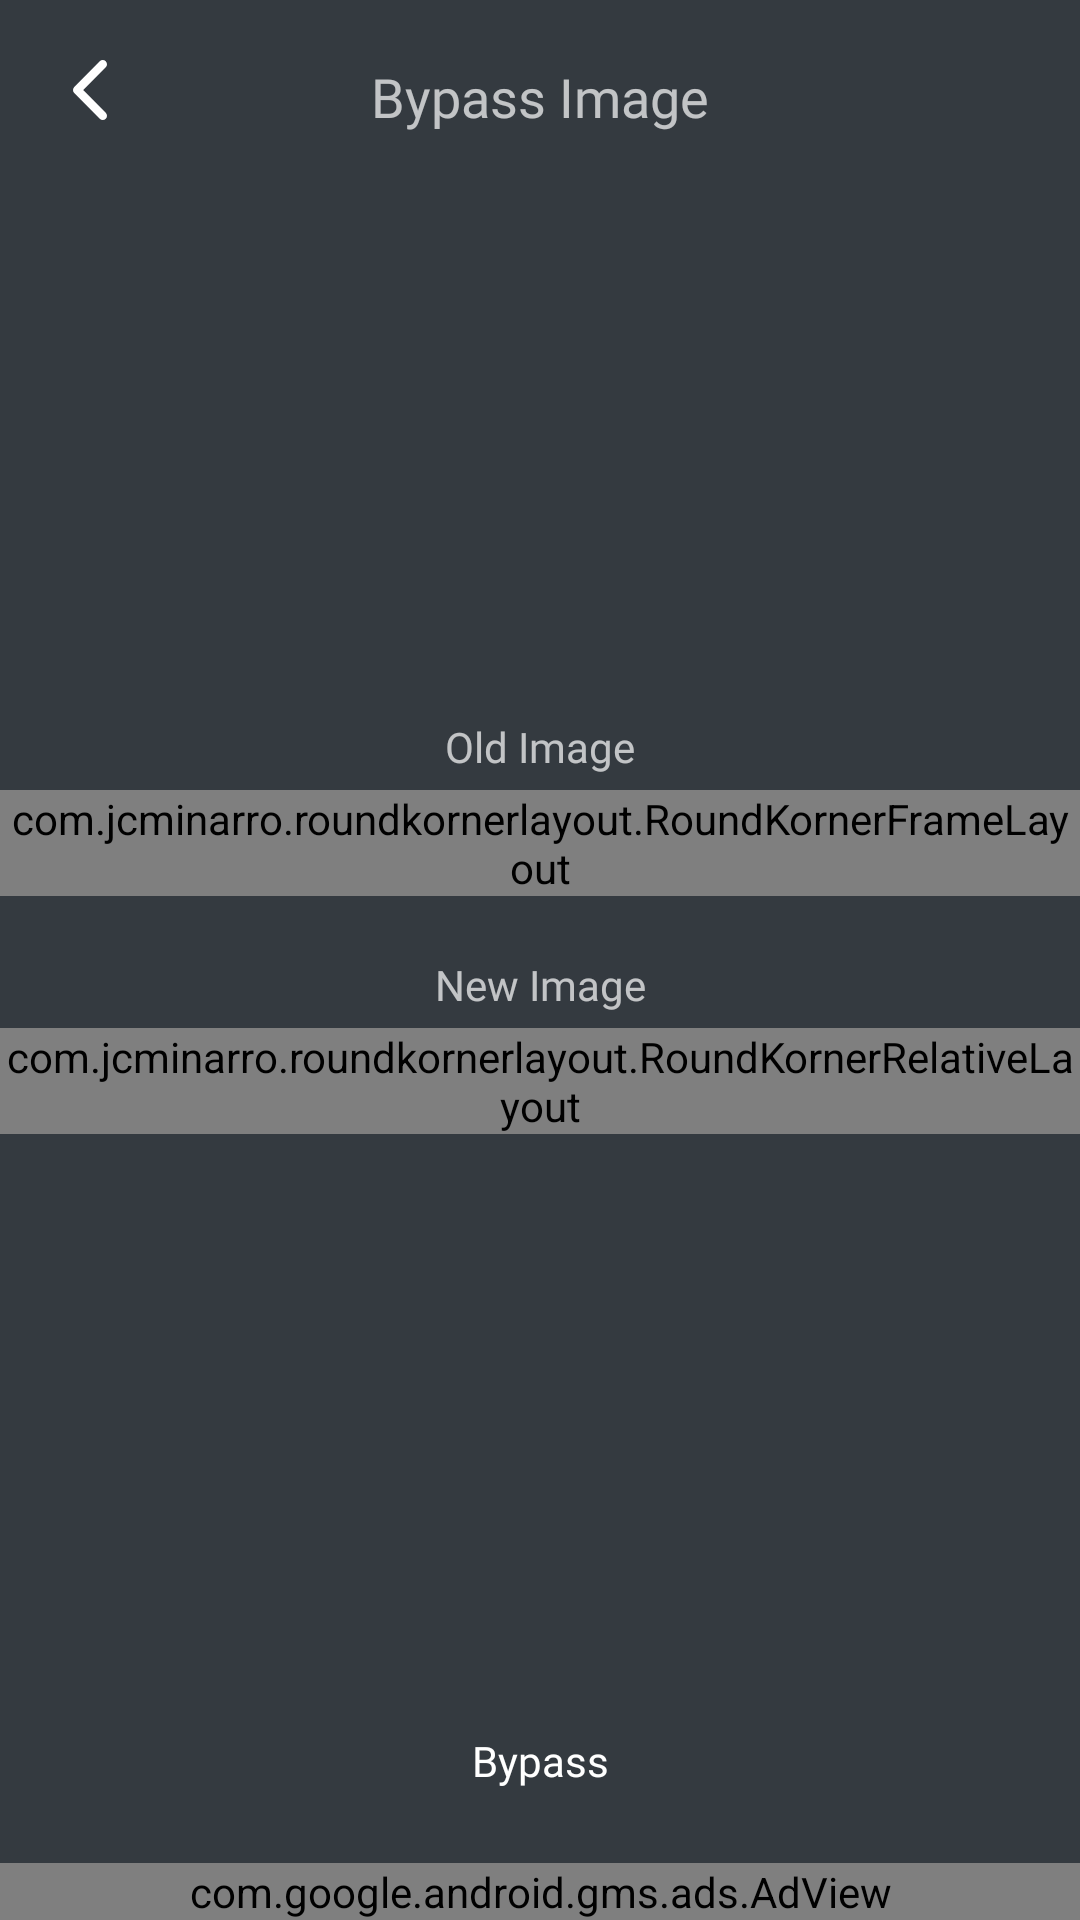

Named icons in this screenshot (1080 × 1920) and their centers, point (x, y):
back: point (90, 90)
